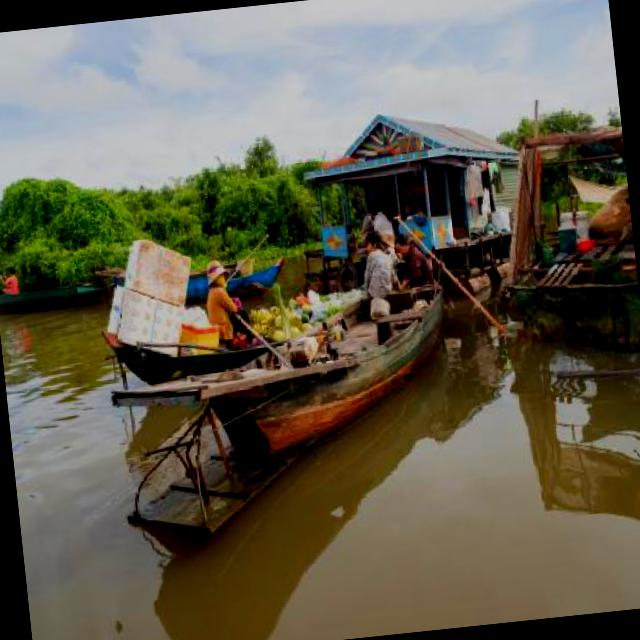Person: (202, 255, 256, 348), (358, 230, 397, 299), (370, 202, 400, 252), (354, 203, 376, 240), (401, 197, 410, 216)
